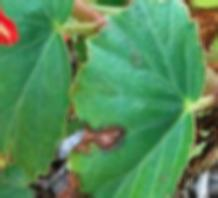Tomato leaf bacterial spot: (32, 2, 216, 198)
